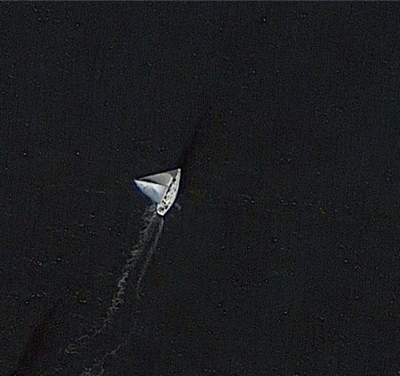boat: (134, 166, 184, 217)
